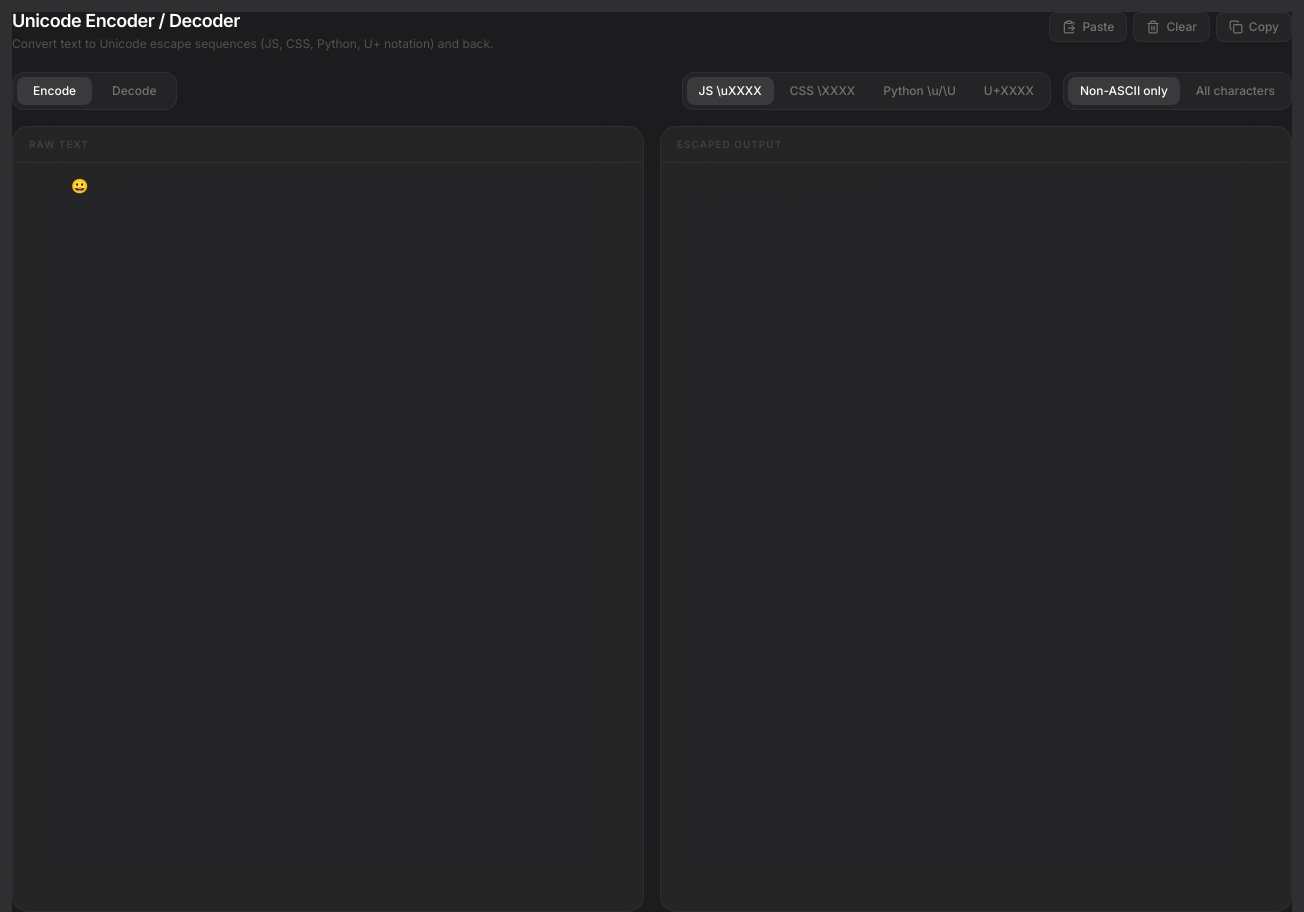
Test case: UnicodeEscapeCoder › switches escape style to CSS
Click the button "CSS \\XXXX" at point(822, 91), box [778,77,867,105]
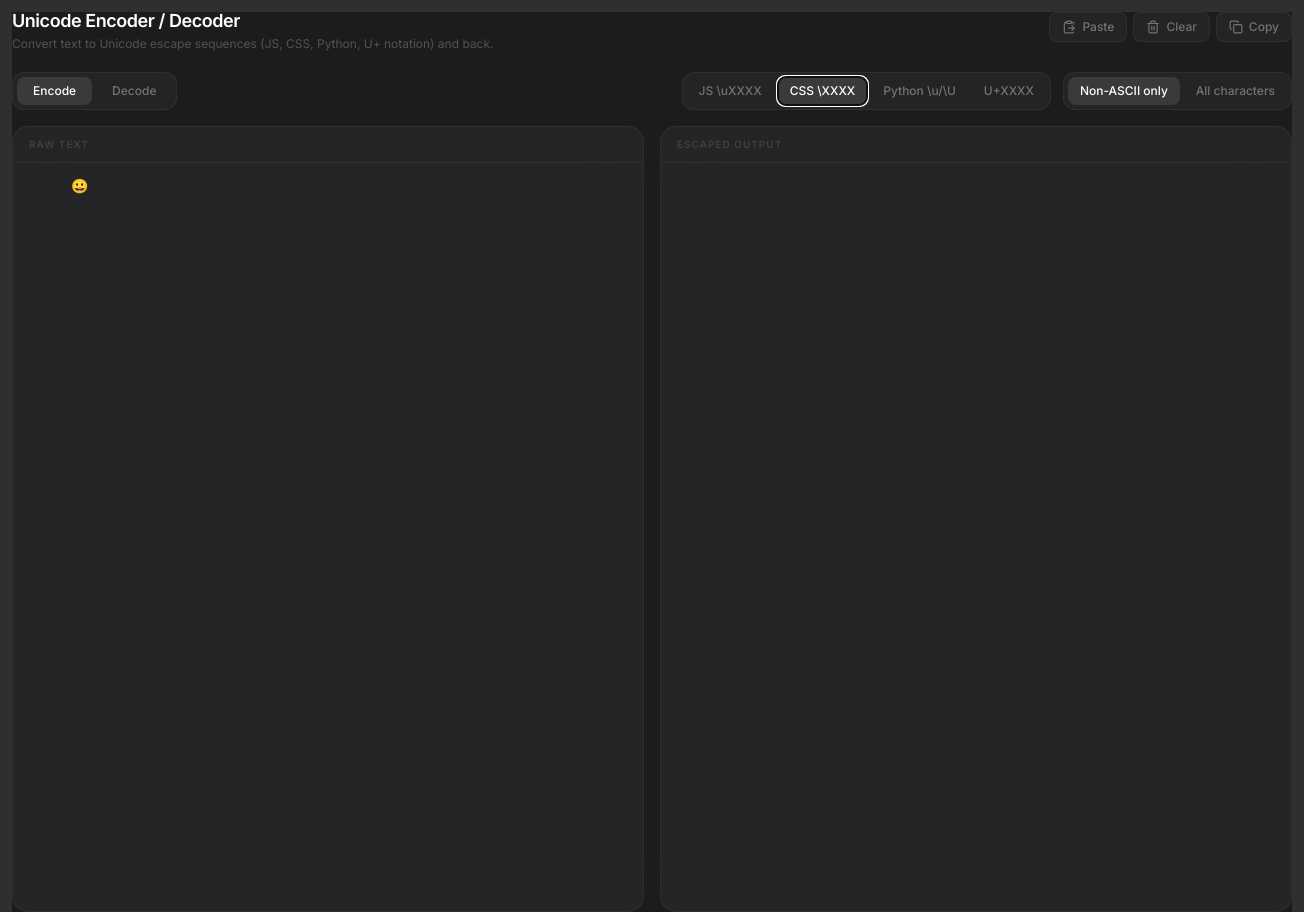
Type "café" into the text box with placeholder "café 😀 世界" at point(328, 537), box [13,163,643,911]
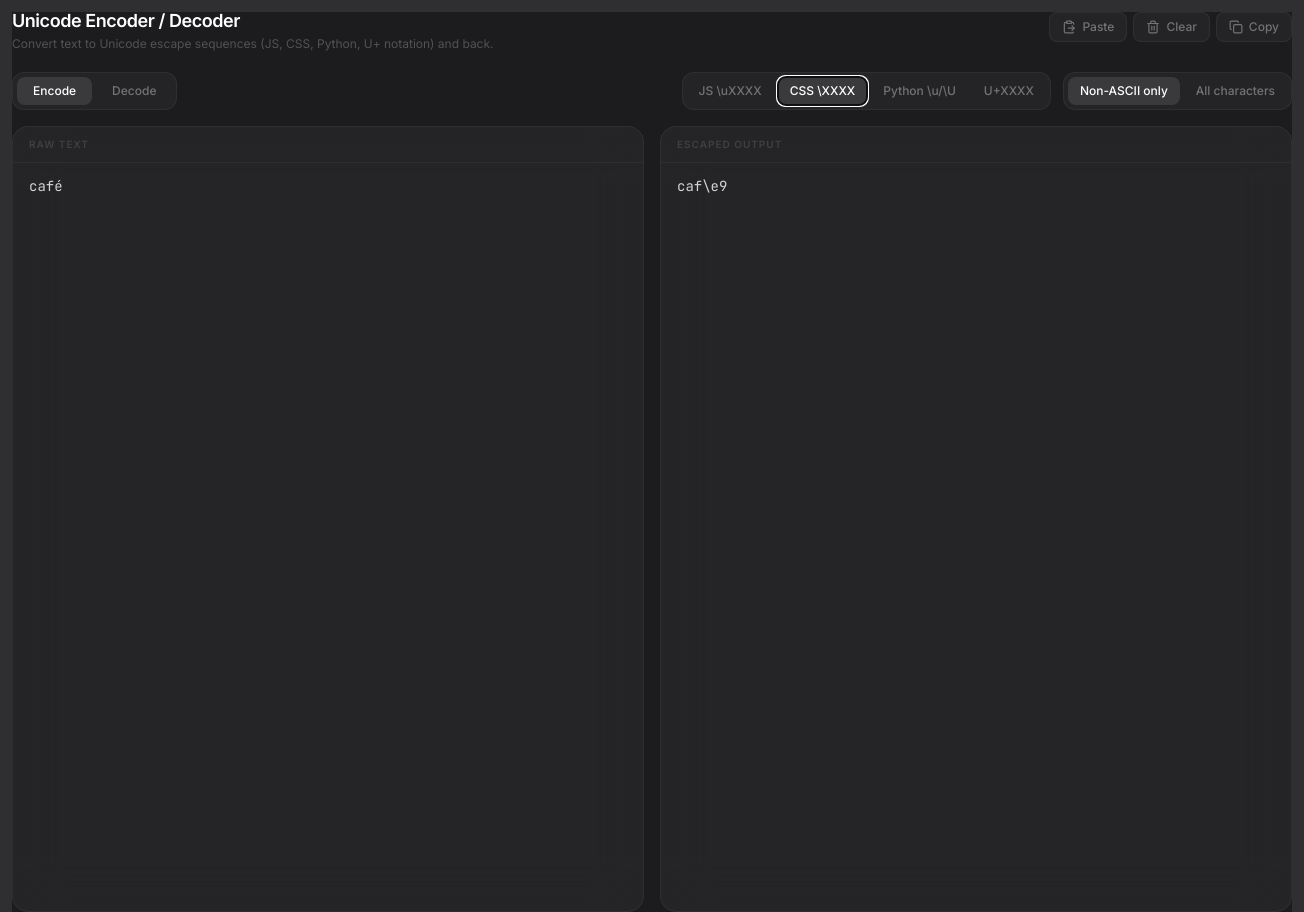
expect the text "caf\\e9" is shown: met, box [677,177,736,195]
